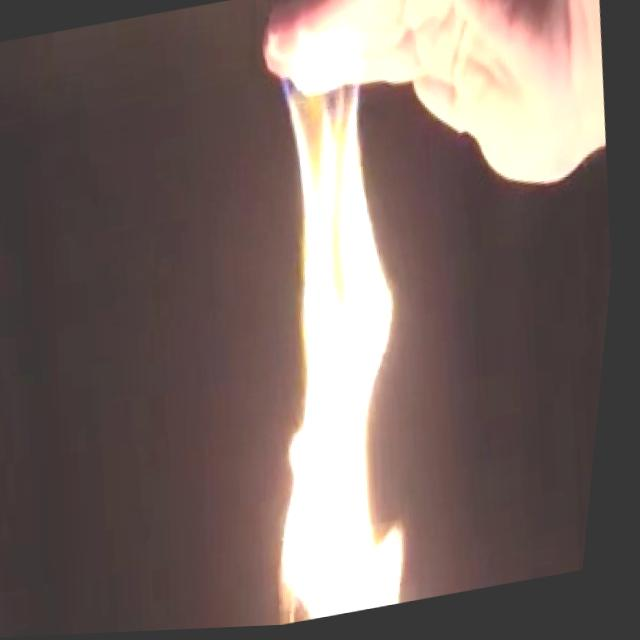Smoke: (205, 23, 472, 631)
